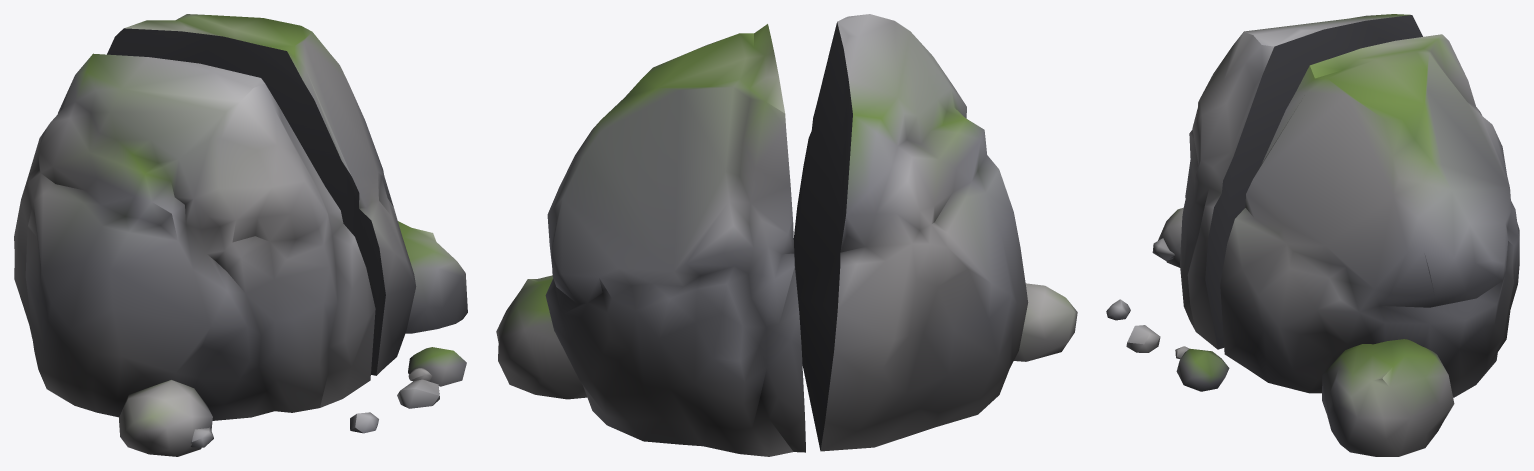
File: rock-cracked-v2.glb
The picture shows the model from 3 angles, left to right: view 1: azimuth 30°, elevation 25°; view 2: azimuth 150°, elevation 25°; view 3: azimuth 270°, elevation 25°; orthographic projection. The views are drawn at different scales.
Visible parts, largest first — view 1: 0_rock.001; view 2: 0_rock.001; view 3: 0_rock.001.
Part boxes in pixels (box(x1,y1,x2,y2)): 0_rock.001: box(14, 14, 467, 456); 0_rock.001: box(496, 14, 1077, 456); 0_rock.001: box(1106, 14, 1519, 456).
Size of the model in its own units: 2.26 by 1.65 by 2.01.
